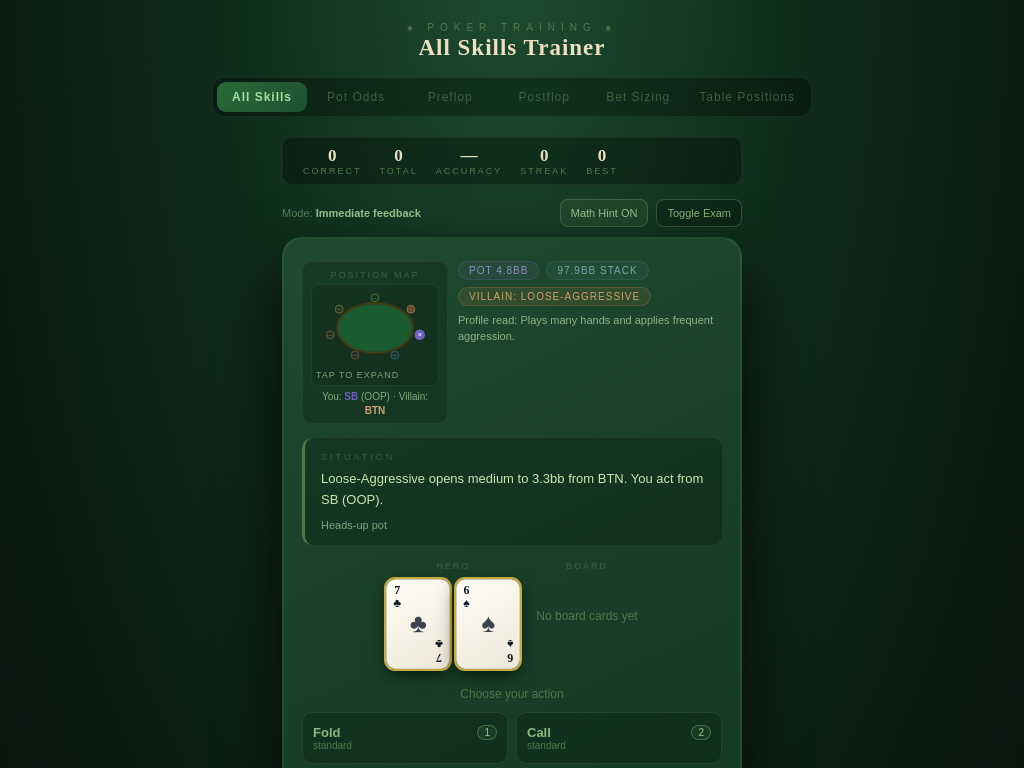
Test: PokerTrainer smoke checks › records a Postflop action and shows feedback state
The image size is (1024, 768).
Click the button "Postflop": coordinates (544, 97) [499, 82, 589, 112]
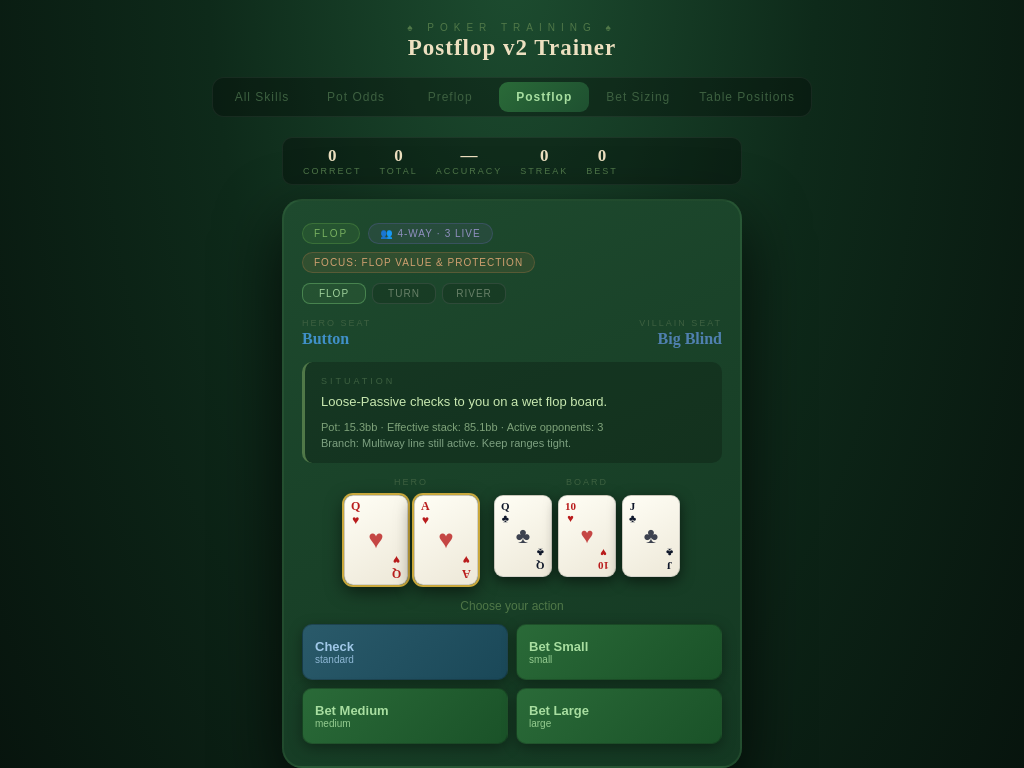
Result: the button "Bet Small small" is shown
Click the button "Bet Small small": coordinates (619, 652) [516, 624, 722, 680]
(page scrolled)
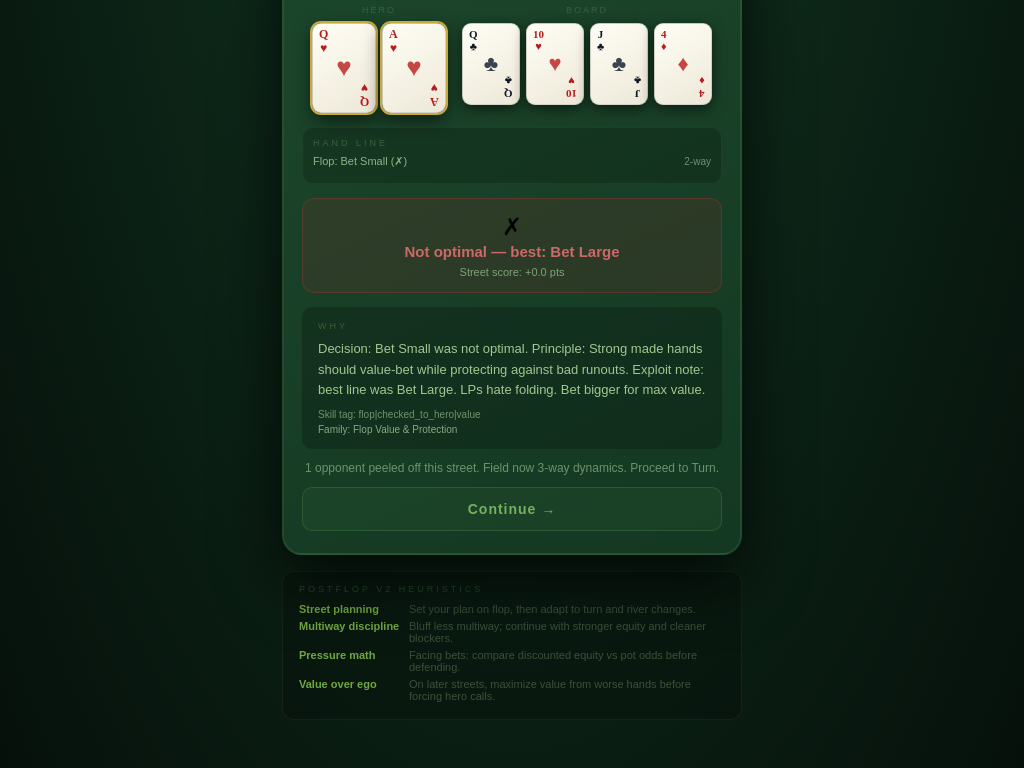
Result: the text "Street score: +0.0 pts" is shown at [460, 266, 564, 278]
Result: the button "Continue →" is shown at [302, 487, 722, 531]
